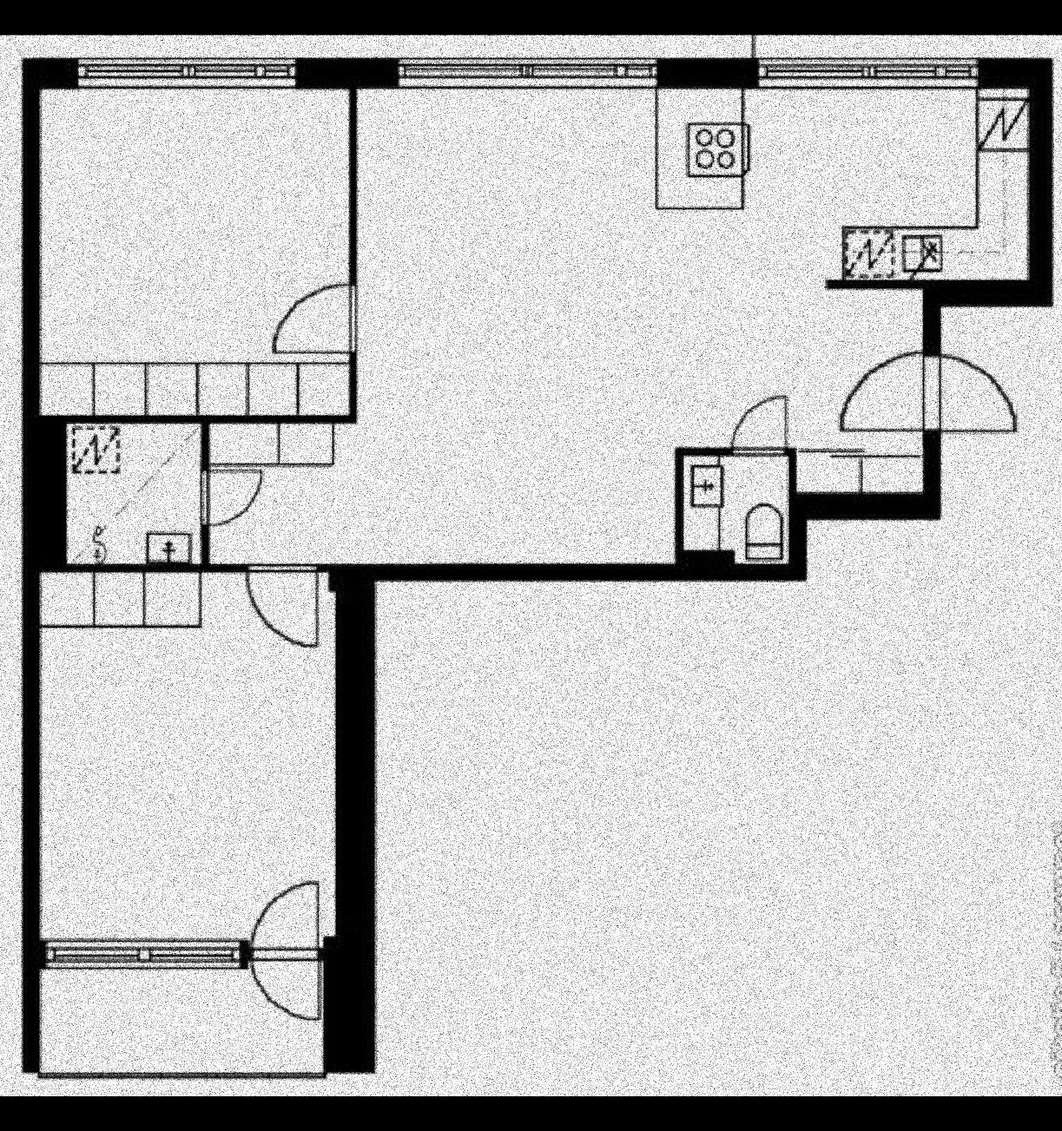door: (839, 342, 1020, 441), (247, 878, 326, 1033), (268, 275, 373, 364), (247, 557, 319, 660), (198, 469, 269, 528), (735, 395, 789, 458)
window: (399, 60, 656, 97), (755, 53, 980, 88), (82, 60, 294, 95), (43, 934, 236, 968)
zone: (205, 82, 1038, 564), (40, 573, 337, 942), (40, 88, 350, 422), (36, 957, 323, 1073), (65, 425, 201, 561), (683, 453, 790, 564)
